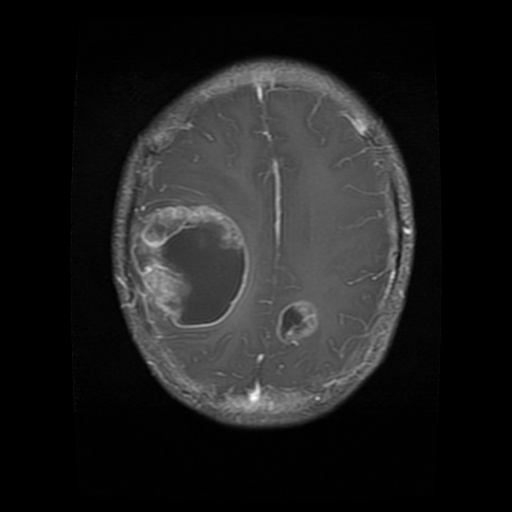glioma: (149, 211, 243, 323)
